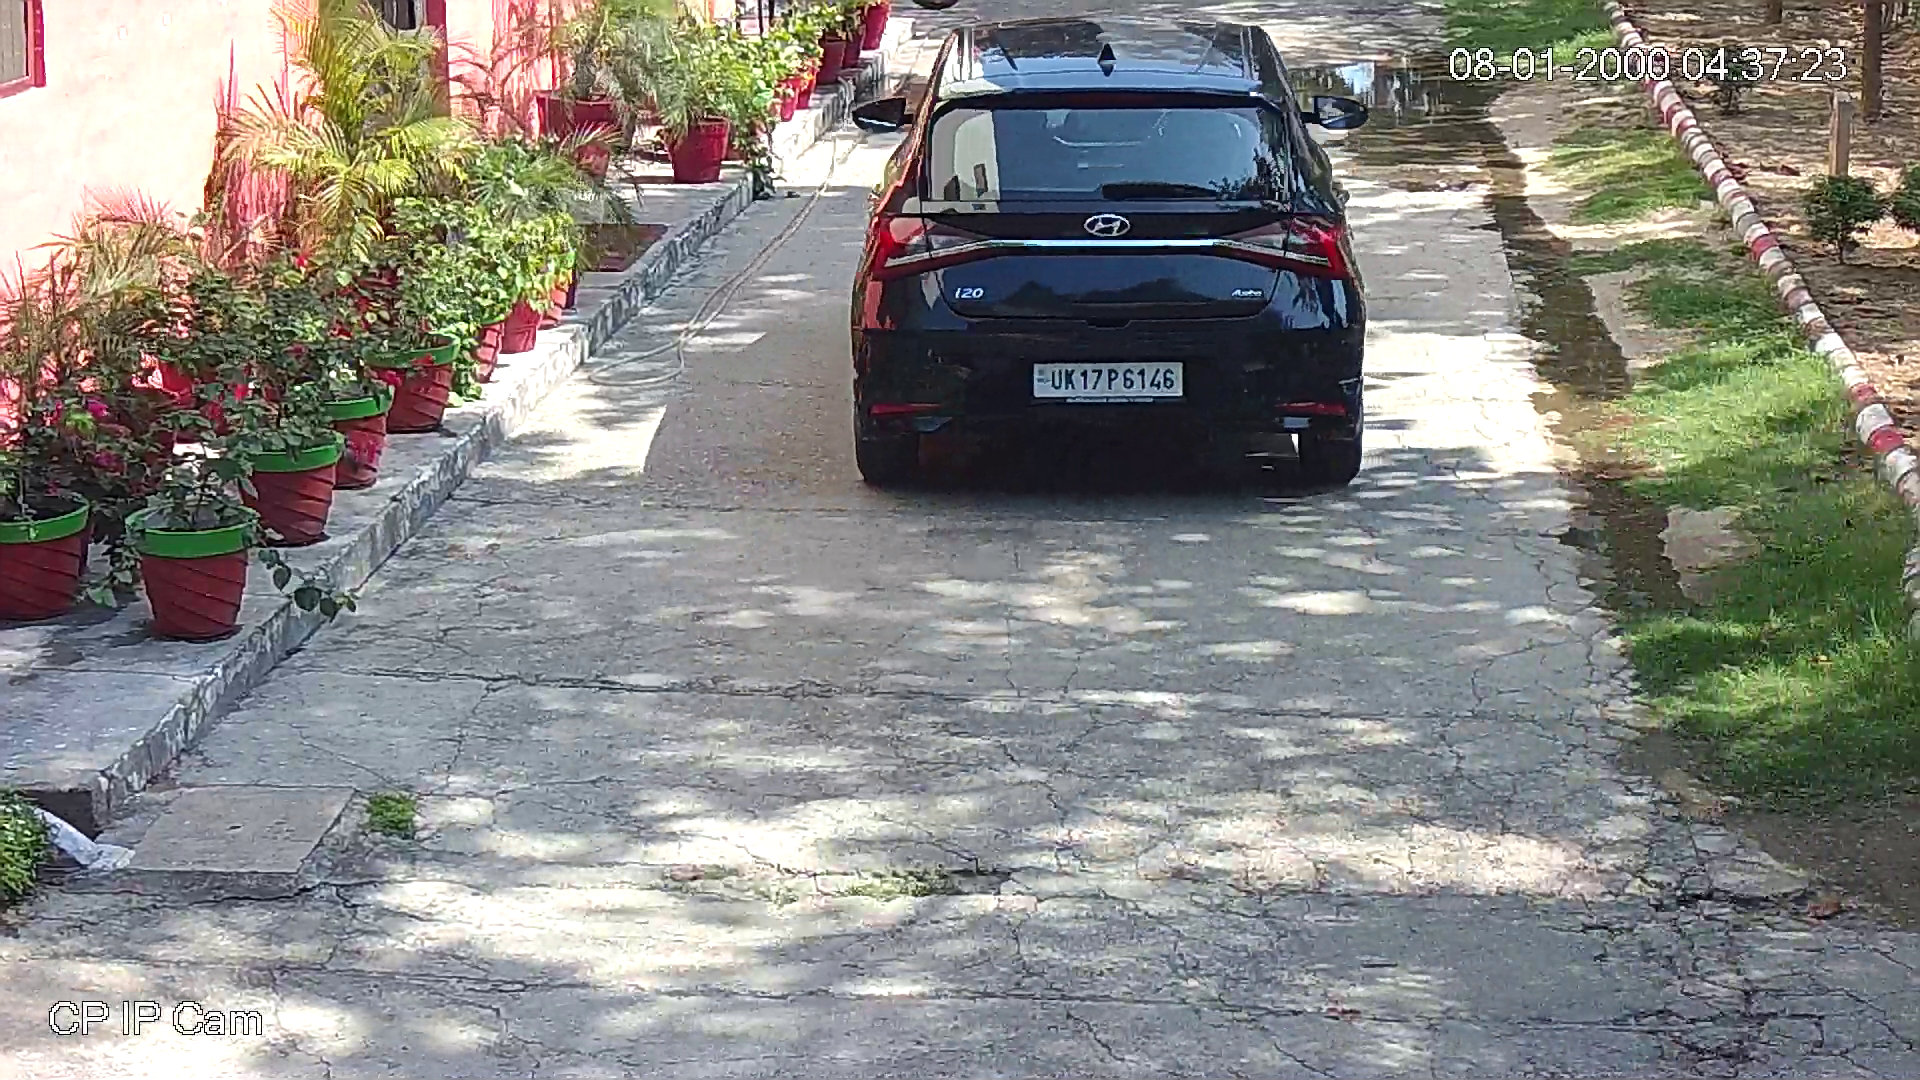plate: (1024, 351, 1191, 407)
